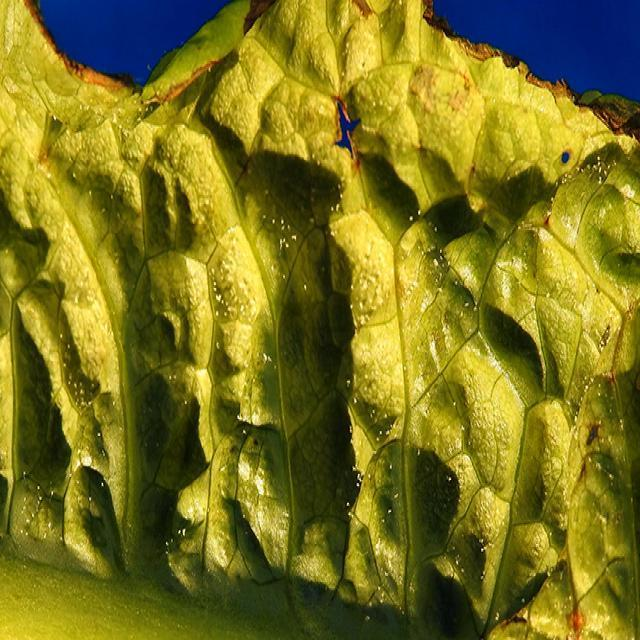Downy_mildew_on_lettuce: (267, 67, 486, 337)
